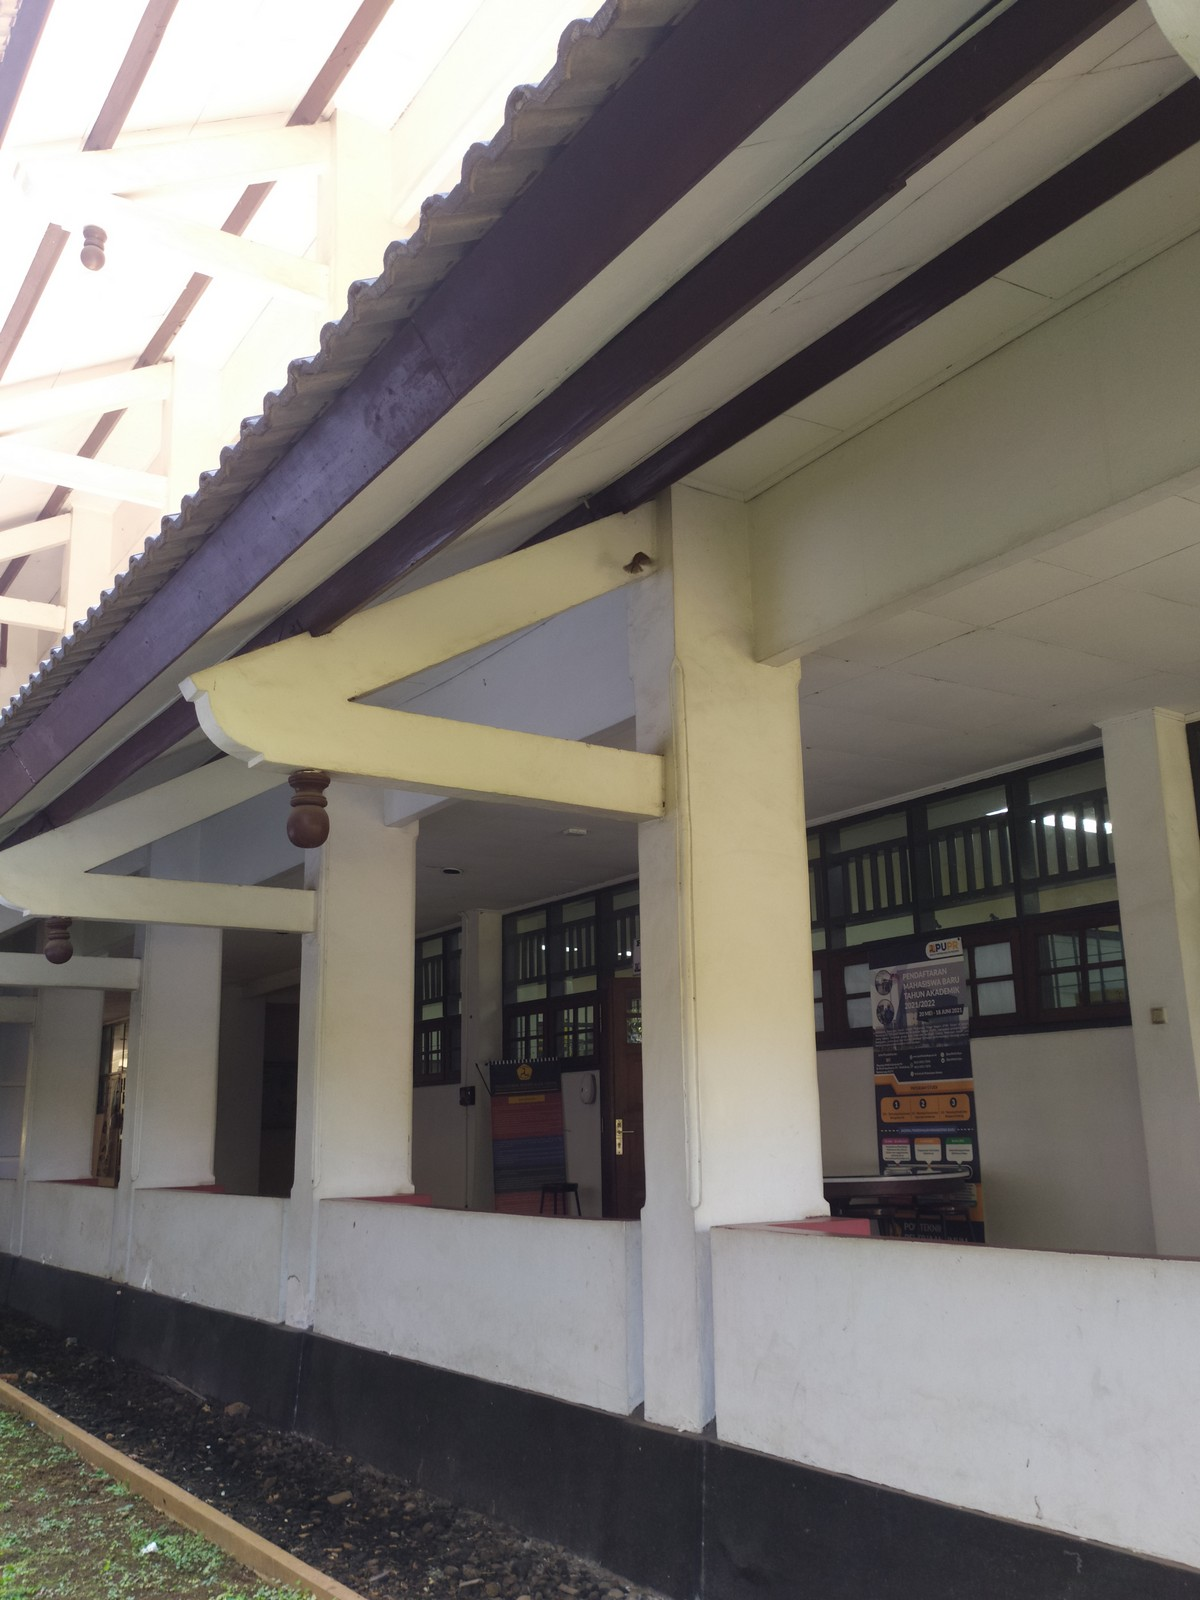concrete beam: (261, 708, 679, 834), (68, 874, 325, 946)
concrete column: (626, 505, 839, 1289), (280, 805, 427, 1259), (118, 923, 229, 1246)
